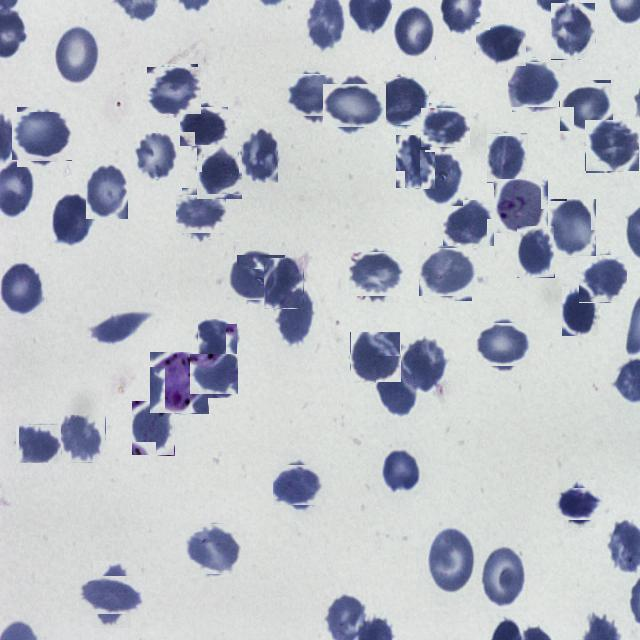red blood cell: (428, 526, 475, 596), (481, 544, 527, 611), (14, 110, 69, 164), (52, 25, 100, 86), (188, 522, 242, 576), (421, 245, 475, 298), (327, 79, 381, 132), (550, 199, 597, 258), (586, 119, 638, 172), (376, 76, 428, 128), (230, 252, 282, 304), (86, 568, 138, 620), (352, 248, 403, 300), (0, 261, 46, 318), (376, 356, 418, 418), (561, 81, 612, 132), (148, 66, 200, 116), (400, 336, 447, 391), (551, 3, 596, 60), (510, 59, 560, 110), (288, 70, 338, 120), (480, 320, 530, 370), (350, 332, 400, 382), (195, 146, 245, 196), (275, 284, 313, 348), (392, 5, 436, 60), (420, 150, 463, 206), (444, 199, 493, 248), (132, 401, 175, 456), (86, 163, 128, 219), (58, 415, 106, 463), (476, 22, 527, 67), (579, 255, 626, 303), (52, 192, 92, 246), (396, 135, 435, 189), (134, 133, 178, 180), (487, 133, 528, 183), (264, 258, 304, 309), (276, 462, 320, 508), (178, 192, 224, 236), (242, 128, 278, 183), (517, 226, 555, 278), (182, 105, 226, 149), (423, 106, 467, 150), (192, 352, 236, 396), (16, 425, 62, 464), (382, 448, 420, 495), (562, 287, 598, 336), (196, 320, 238, 362), (560, 484, 600, 524)
ring: (493, 179, 548, 233)
trophozoite: (150, 352, 209, 414)
